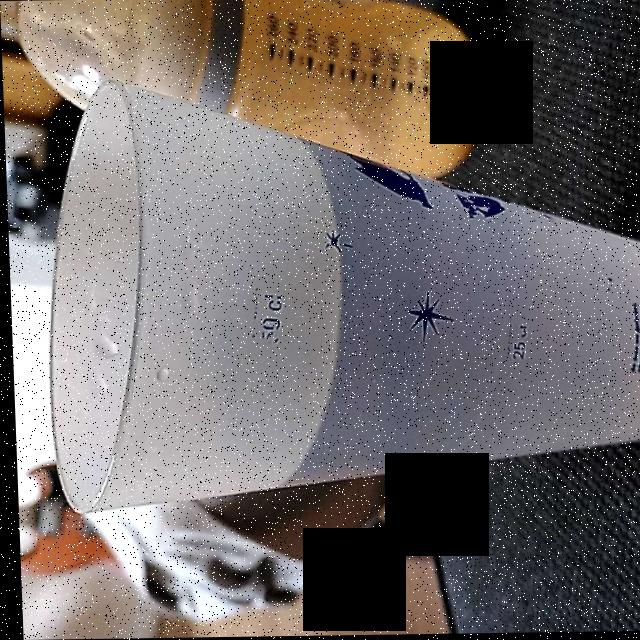water: (227, 135, 640, 473)
